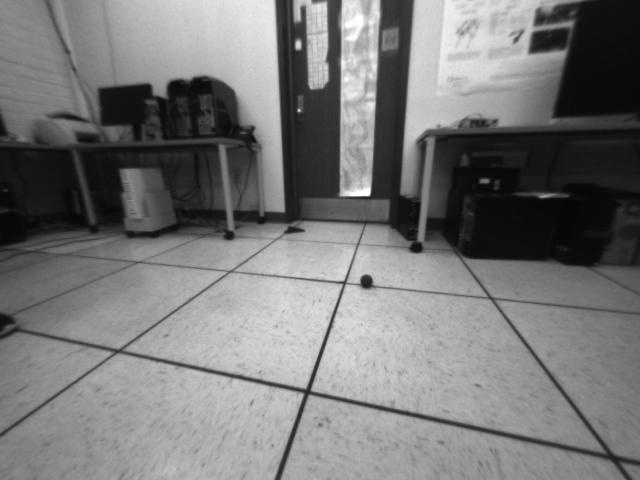dogtoy: (353, 268, 380, 292)
